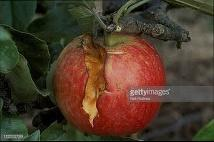rotten apple: (48, 33, 166, 136)
